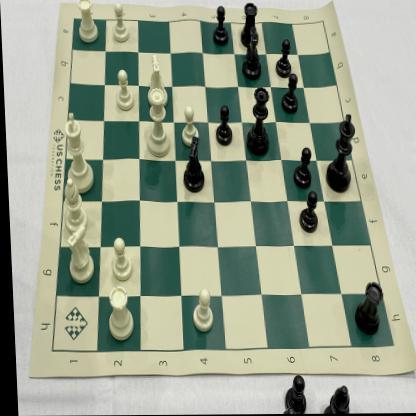black-king: (316, 110, 357, 195)
black-knight: (178, 135, 206, 195), (240, 25, 262, 80)
black-pawn: (290, 146, 313, 190), (296, 190, 318, 235), (210, 103, 232, 147), (280, 72, 300, 117), (273, 36, 293, 80), (210, 4, 230, 48)
black-queen: (241, 85, 272, 159)
black-rook: (350, 277, 384, 336), (238, 1, 262, 49)
white-bishop: (57, 177, 88, 235), (103, 285, 133, 344)
white-king: (59, 110, 95, 196)
white-knight: (61, 223, 94, 284), (144, 51, 168, 109)
white-pawn: (104, 235, 134, 284), (184, 284, 213, 334), (112, 66, 135, 113), (108, 0, 131, 45), (178, 105, 198, 149)
white-queen: (138, 88, 173, 160)
white-rook: (73, 0, 101, 46)
